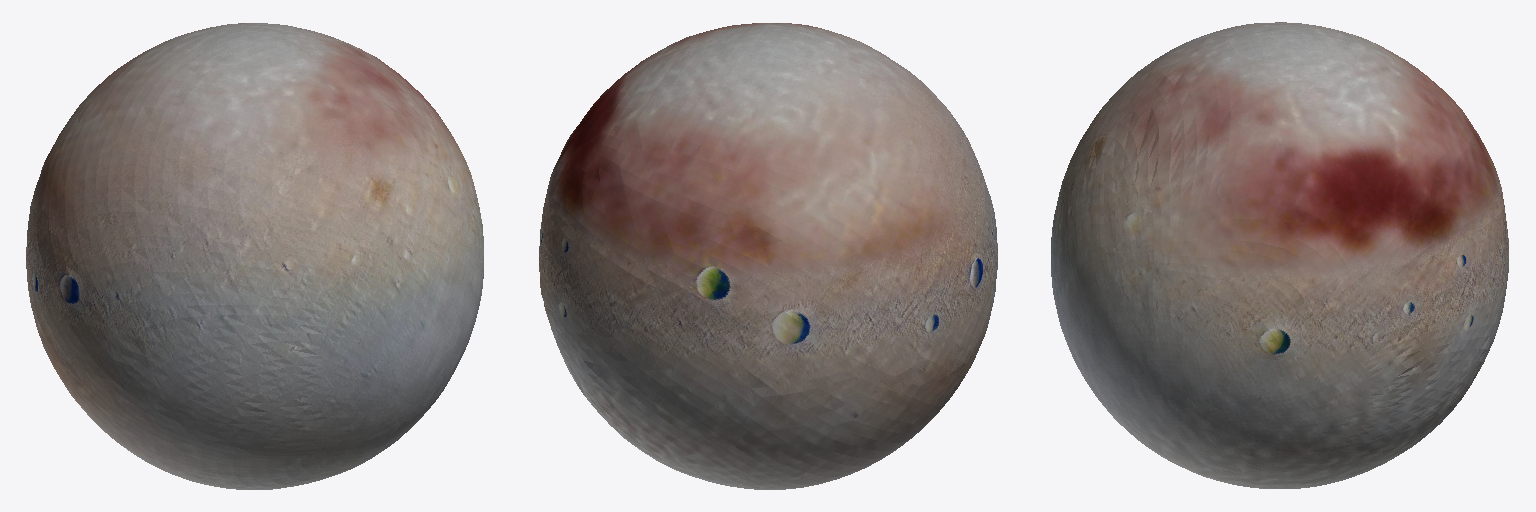
The picture shows the model from 3 angles: view 1: azimuth 30°, elevation 25°; view 2: azimuth 150°, elevation 25°; view 3: azimuth 270°, elevation 25°; orthographic projection.
Parts seen in each view (by area): view 1: mesh; view 2: mesh; view 3: mesh.
Part boxes in pixels (bbox=[...]): mesh: bbox=[26, 23, 483, 489]; mesh: bbox=[539, 23, 997, 489]; mesh: bbox=[1051, 22, 1508, 488].
Bounding box in the file's own units: 0.9802 × 0.9992 × 0.9761.
Materials: 1 (1 with a texture image).